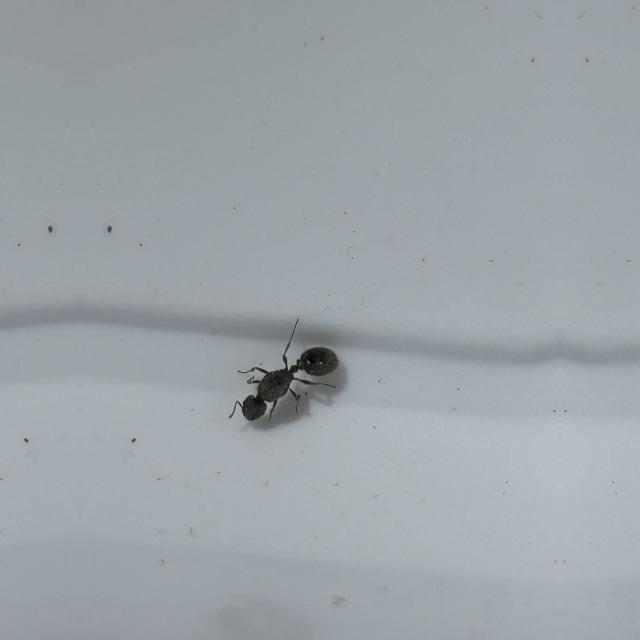Tetramorium: (223, 318, 345, 442)
